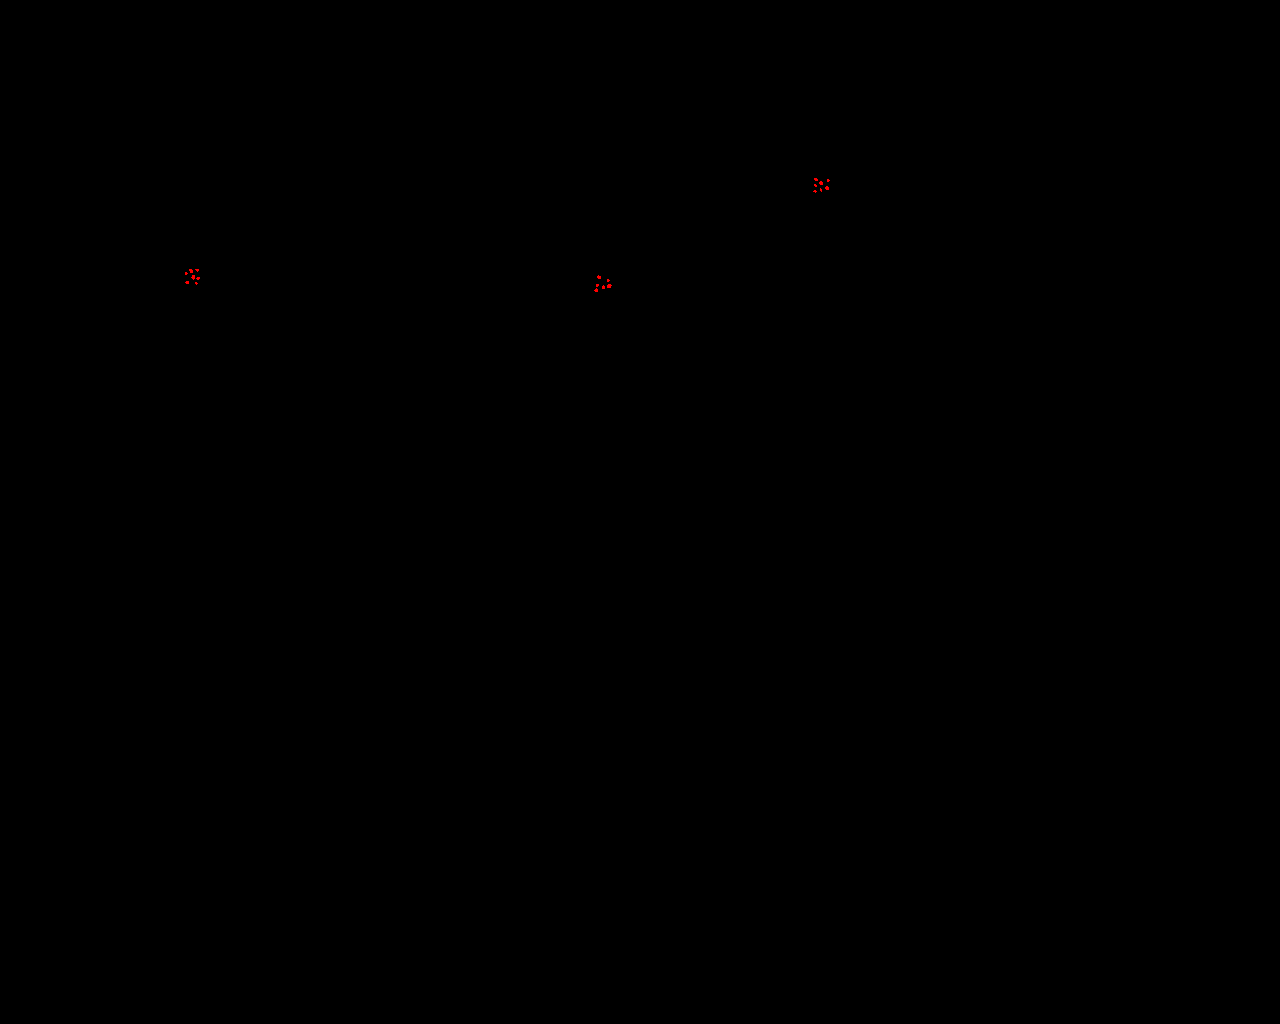Target: (191, 275, 195, 280), (607, 284, 612, 288), (819, 181, 823, 185), (189, 269, 193, 273), (597, 275, 601, 279), (814, 178, 818, 181), (825, 186, 829, 190), (813, 190, 817, 193), (185, 281, 189, 284), (602, 285, 605, 289), (594, 288, 598, 292), (827, 179, 830, 182), (814, 184, 817, 187), (195, 269, 199, 272), (185, 272, 188, 275), (196, 277, 200, 280), (607, 279, 610, 282), (596, 284, 599, 287), (820, 188, 822, 192), (195, 282, 197, 285)
